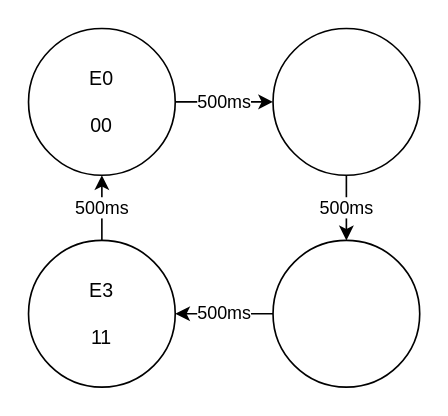
Image size: 448x416. Some labels were removed from this diagram. Each missing label, with the centre of its shape:
"E1 01" goes at (x=345, y=101).
"E2 10" goes at (x=345, y=313).
